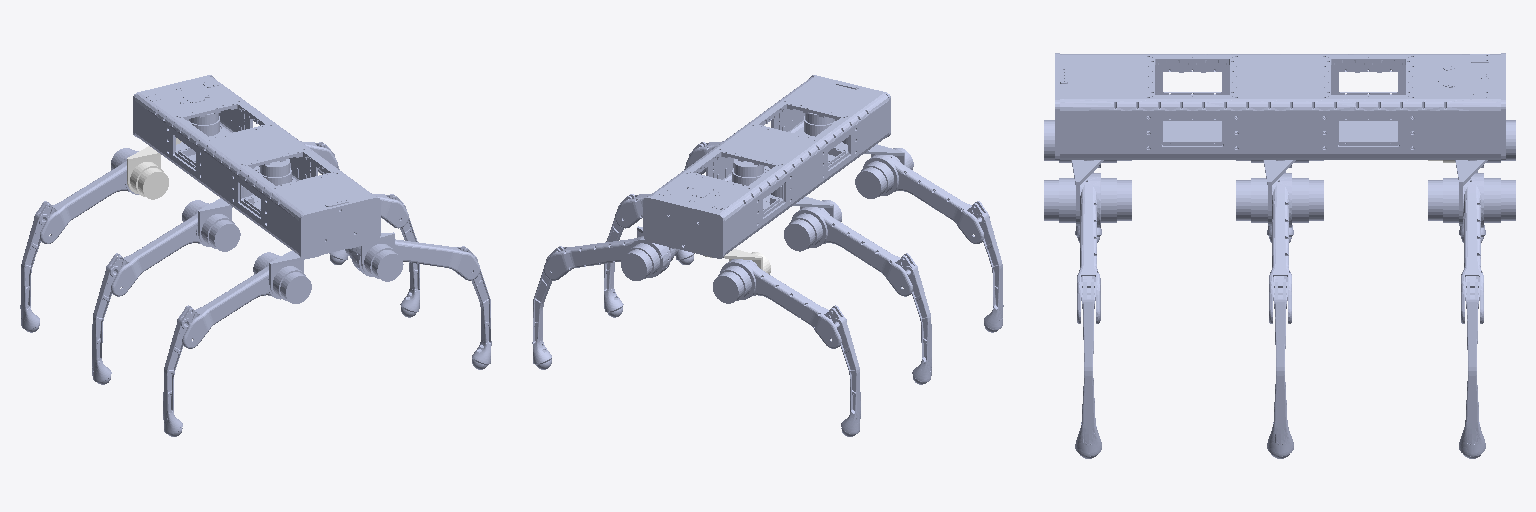
robot.urdf — robot_hexapod:
<?xml version="1.0" encoding="utf-8"?>
<!-- This URDF was automatically created by SolidWorks to URDF Exporter! Originally created by [author] ([email redacted]) 
     Commit Version: 1.6.0-4-g7f85cfe  Build Version: 1.6.7995.38578
     For more information, please see http://wiki.ros.org/sw_urdf_exporter -->
<robot
  name="robot_hexapod">
  <link
    name="base_link">
    <inertial>
      <origin
        xyz="1.46108995875164E-06 0.051188804105788 -0.000137539896622166"
        rpy="0 0 0" />
      <mass
        value="3.67349717771553" />
      <inertia
        ixx="0.173966458817694"
        ixy="-3.03137671653759E-08"
        ixz="2.33262035089775E-06"
        iyy="0.185469512654219"
        iyz="3.49228963968594E-06"
        izz="0.0136702984773865" />
    </inertial>
    <visual>
      <origin
        xyz="0 0 0"
        rpy="0 0 0" />
      <geometry>
        <mesh
          filename="package://robot_hexapod/meshes/base_link.STL" />
      </geometry>
      <material
        name="">
        <color
          rgba="0.792156862745098 0.819607843137255 0.933333333333333 1" />
      </material>
    </visual>
    <collision>
      <origin
        xyz="0 0 0"
        rpy="0 0 0" />
      <geometry>
        <mesh
          filename="package://robot_hexapod/meshes/base_link.STL" />
      </geometry>
    </collision>
  </link>
  <link
    name="lb_link1">
    <inertial>
      <origin
        xyz="0.038794 -0.021772 -0.0023024"
        rpy="0 0 0" />
      <mass
        value="0.62516" />
      <inertia
        ixx="0.00043581"
        ixy="2.4123E-05"
        ixz="4.5244E-05"
        iyy="0.00057762"
        iyz="-1.333E-05"
        izz="0.00053065" />
    </inertial>
    <visual>
      <origin
        xyz="0 0 0"
        rpy="0 0 0" />
      <geometry>
        <mesh
          filename="package://robot_hexapod/meshes/lb_link1.STL" />
      </geometry>
      <material
        name="">
        <color
          rgba="0.79216 0.81961 0.93333 1" />
      </material>
    </visual>
    <collision>
      <origin
        xyz="0 0 0"
        rpy="0 0 0" />
      <geometry>
        <mesh
          filename="package://robot_hexapod/meshes/lb_link1.STL" />
      </geometry>
    </collision>
  </link>
  <joint
    name="body_lb"
    type="revolute">
    <origin
      xyz="0.05 0.34 -0.021"
      rpy="0 0 0" />
    <parent
      link="base_link" />
    <child
      link="lb_link1" />
    <axis
      xyz="0 0 -1" />
    <limit
      lower="-1.57"
      upper="1.57"
      effort="0"
      velocity="0" />
  </joint>
  <link
    name="lb_link2">
    <inertial>
      <origin
        xyz="0.043848 0.01982 -0.0082235"
        rpy="0 0 0" />
      <mass
        value="0.46795" />
      <inertia
        ixx="0.00041203"
        ixy="1.5139E-05"
        ixz="0.00048909"
        iyy="0.0026296"
        iyz="-2.926E-06"
        izz="0.0023888" />
    </inertial>
    <visual>
      <origin
        xyz="0 0 0"
        rpy="0 0 0" />
      <geometry>
        <mesh
          filename="package://robot_hexapod/meshes/lb_link2.STL" />
      </geometry>
      <material
        name="">
        <color
          rgba="0.79216 0.81961 0.93333 1" />
      </material>
    </visual>
    <collision>
      <origin
        xyz="0 0 0"
        rpy="0 0 0" />
      <geometry>
        <mesh
          filename="package://robot_hexapod/meshes/lb_link2.STL" />
      </geometry>
    </collision>
  </link>
  <joint
    name="thigh_lb"
    type="revolute">
    <origin
      xyz="0.075728 0.0068868 -0.05"
      rpy="0 0 0" />
    <parent
      link="lb_link1" />
    <child
      link="lb_link2" />
    <axis
      xyz="0 -1 0" />
    <limit
      lower="-1.57"
      upper="1.57"
      effort="0"
      velocity="0" />
  </joint>
  <link
    name="lb_link_3">
    <inertial>
      <origin
        xyz="0.0024767 -1.1784E-06 -0.17513"
        rpy="0 0 0" />
      <mass
        value="0.13621" />
      <inertia
        ixx="0.00052953"
        ixy="-1.4767E-09"
        ixz="3.901E-05"
        iyy="0.00053577"
        iyz="1.6182E-08"
        izz="2.4831E-05" />
    </inertial>
    <visual>
      <origin
        xyz="0 0 0"
        rpy="0 0 0" />
      <geometry>
        <mesh
          filename="package://robot_hexapod/meshes/lb_link_3.STL" />
      </geometry>
      <material
        name="">
        <color
          rgba="0.79216 0.81961 0.93333 1" />
      </material>
    </visual>
    <collision>
      <origin
        xyz="0 0 0"
        rpy="0 0 0" />
      <geometry>
        <mesh
          filename="package://robot_hexapod/meshes/lb_link_3.STL" />
      </geometry>
    </collision>
  </link>
  <joint
    name="shank_lb"
    type="revolute">
    <origin
      xyz="0.26531 -0.0068868 -0.073333"
      rpy="0 0 0" />
    <parent
      link="lb_link2" />
    <child
      link="lb_link_3" />
    <axis
      xyz="0 -1 0" />
    <limit
      lower="-1.57"
      upper="1.57"
      effort="0"
      velocity="0" />
  </joint>
  <link
    name="lm_link1">
    <inertial>
      <origin
        xyz="0.038794 -0.021772 -0.0023024"
        rpy="0 0 0" />
      <mass
        value="0.62516" />
      <inertia
        ixx="0.00043581"
        ixy="2.4123E-05"
        ixz="4.5244E-05"
        iyy="0.00057762"
        iyz="-1.333E-05"
        izz="0.00053065" />
    </inertial>
    <visual>
      <origin
        xyz="0 0 0"
        rpy="0 0 0" />
      <geometry>
        <mesh
          filename="package://robot_hexapod/meshes/lm_link1.STL" />
      </geometry>
      <material
        name="">
        <color
          rgba="0.79216 0.81961 0.93333 1" />
      </material>
    </visual>
    <collision>
      <origin
        xyz="0 0 0"
        rpy="0 0 0" />
      <geometry>
        <mesh
          filename="package://robot_hexapod/meshes/lm_link1.STL" />
      </geometry>
    </collision>
  </link>
  <joint
    name="body_lm"
    type="revolute">
    <origin
      xyz="0.05 0 -0.021"
      rpy="0 0 0" />
    <parent
      link="base_link" />
    <child
      link="lm_link1" />
    <axis
      xyz="0 0 -1" />
    <limit
      lower="-1.57"
      upper="1.57"
      effort="0"
      velocity="0" />
  </joint>
  <link
    name="lm_link2">
    <inertial>
      <origin
        xyz="0.043575 0.026707 -0.0082235"
        rpy="0 0 0" />
      <mass
        value="0.46795" />
      <inertia
        ixx="0.00041203"
        ixy="1.5139E-05"
        ixz="0.00048909"
        iyy="0.0026296"
        iyz="-2.926E-06"
        izz="0.0023888" />
    </inertial>
    <visual>
      <origin
        xyz="0 0 0"
        rpy="0 0 0" />
      <geometry>
        <mesh
          filename="package://robot_hexapod/meshes/lm_link2.STL" />
      </geometry>
      <material
        name="">
        <color
          rgba="0.79216 0.81961 0.93333 1" />
      </material>
    </visual>
    <collision>
      <origin
        xyz="0 0 0"
        rpy="0 0 0" />
      <geometry>
        <mesh
          filename="package://robot_hexapod/meshes/lm_link2.STL" />
      </geometry>
    </collision>
  </link>
  <joint
    name="thigh_lm"
    type="revolute">
    <origin
      xyz="0.076 0 -0.05"
      rpy="0 0 0" />
    <parent
      link="lm_link1" />
    <child
      link="lm_link2" />
    <axis
      xyz="0 -1 0" />
    <limit
      lower="-1.57"
      upper="1.57"
      effort="0"
      velocity="0" />
  </joint>
  <link
    name="lm_link3">
    <inertial>
      <origin
        xyz="0.0024767 -1.1784E-06 -0.17513"
        rpy="0 0 0" />
      <mass
        value="0.13621" />
      <inertia
        ixx="0.00052953"
        ixy="-1.4767E-09"
        ixz="3.901E-05"
        iyy="0.00053577"
        iyz="1.6182E-08"
        izz="2.4831E-05" />
    </inertial>
    <visual>
      <origin
        xyz="0 0 0"
        rpy="0 0 0" />
      <geometry>
        <mesh
          filename="package://robot_hexapod/meshes/lm_link3.STL" />
      </geometry>
      <material
        name="">
        <color
          rgba="0.79216 0.81961 0.93333 1" />
      </material>
    </visual>
    <collision>
      <origin
        xyz="0 0 0"
        rpy="0 0 0" />
      <geometry>
        <mesh
          filename="package://robot_hexapod/meshes/lm_link3.STL" />
      </geometry>
    </collision>
  </link>
  <joint
    name="shank_lm"
    type="revolute">
    <origin
      xyz="0.26504 0 -0.073333"
      rpy="0 0 0" />
    <parent
      link="lm_link2" />
    <child
      link="lm_link3" />
    <axis
      xyz="0 -1 0" />
    <limit
      lower="-1.57"
      upper="1.57"
      effort="0"
      velocity="0" />
  </joint>
  <link
    name="lf_link1">
    <inertial>
      <origin
        xyz="0.038794 -0.021772 -0.0023024"
        rpy="0 0 0" />
      <mass
        value="0.62516" />
      <inertia
        ixx="0.00043581"
        ixy="2.4123E-05"
        ixz="4.5244E-05"
        iyy="0.00057762"
        iyz="-1.333E-05"
        izz="0.00053065" />
    </inertial>
    <visual>
      <origin
        xyz="0 0 0"
        rpy="0 0 0" />
      <geometry>
        <mesh
          filename="package://robot_hexapod/meshes/lf_link1.STL" />
      </geometry>
      <material
        name="">
        <color
          rgba="0.79216 0.81961 0.93333 1" />
      </material>
    </visual>
    <collision>
      <origin
        xyz="0 0 0"
        rpy="0 0 0" />
      <geometry>
        <mesh
          filename="package://robot_hexapod/meshes/lf_link1.STL" />
      </geometry>
    </collision>
  </link>
  <joint
    name="body_lf"
    type="revolute">
    <origin
      xyz="0.05 -0.34 -0.021"
      rpy="0 0 0" />
    <parent
      link="base_link" />
    <child
      link="lf_link1" />
    <axis
      xyz="0 0 -1" />
    <limit
      lower="-1.57"
      upper="1.57"
      effort="0"
      velocity="0" />
  </joint>
  <link
    name="lf_link2">
    <inertial>
      <origin
        xyz="0.043575 0.026707 -0.0082235"
        rpy="0 0 0" />
      <mass
        value="0.46795" />
      <inertia
        ixx="0.00041203"
        ixy="1.5139E-05"
        ixz="0.00048909"
        iyy="0.0026296"
        iyz="-2.926E-06"
        izz="0.0023888" />
    </inertial>
    <visual>
      <origin
        xyz="0 0 0"
        rpy="0 0 0" />
      <geometry>
        <mesh
          filename="package://robot_hexapod/meshes/lf_link2.STL" />
      </geometry>
      <material
        name="">
        <color
          rgba="0.79216 0.81961 0.93333 1" />
      </material>
    </visual>
    <collision>
      <origin
        xyz="0 0 0"
        rpy="0 0 0" />
      <geometry>
        <mesh
          filename="package://robot_hexapod/meshes/lf_link2.STL" />
      </geometry>
    </collision>
  </link>
  <joint
    name="thigh_lf"
    type="revolute">
    <origin
      xyz="0.076 0 -0.05"
      rpy="0 0 0" />
    <parent
      link="lf_link1" />
    <child
      link="lf_link2" />
    <axis
      xyz="0 -1 0" />
    <limit
      lower="-1.57"
      upper="1.57"
      effort="0"
      velocity="0" />
  </joint>
  <link
    name="lf_link3">
    <inertial>
      <origin
        xyz="0.0024767 -1.1784E-06 -0.17513"
        rpy="0 0 0" />
      <mass
        value="0.13621" />
      <inertia
        ixx="0.00052953"
        ixy="-1.4767E-09"
        ixz="3.901E-05"
        iyy="0.00053577"
        iyz="1.6182E-08"
        izz="2.4831E-05" />
    </inertial>
    <visual>
      <origin
        xyz="0 0 0"
        rpy="0 0 0" />
      <geometry>
        <mesh
          filename="package://robot_hexapod/meshes/lf_link3.STL" />
      </geometry>
      <material
        name="">
        <color
          rgba="0.79216 0.81961 0.93333 1" />
      </material>
    </visual>
    <collision>
      <origin
        xyz="0 0 0"
        rpy="0 0 0" />
      <geometry>
        <mesh
          filename="package://robot_hexapod/meshes/lf_link3.STL" />
      </geometry>
    </collision>
  </link>
  <joint
    name="shank_lf"
    type="revolute">
    <origin
      xyz="0.26504 0 -0.073333"
      rpy="0 0 0" />
    <parent
      link="lf_link2" />
    <child
      link="lf_link3" />
    <axis
      xyz="0 -1 0" />
    <limit
      lower="-1.57"
      upper="1.57"
      effort="0"
      velocity="0" />
  </joint>
  <link
    name="rf_link1">
    <inertial>
      <origin
        xyz="-0.038794 -0.021772 -0.0023024"
        rpy="0 0 0" />
      <mass
        value="0.62516" />
      <inertia
        ixx="0.00043581"
        ixy="-2.4123E-05"
        ixz="-4.5244E-05"
        iyy="0.00057762"
        iyz="-1.333E-05"
        izz="0.00053065" />
    </inertial>
    <visual>
      <origin
        xyz="0 0 0"
        rpy="0 0 0" />
      <geometry>
        <mesh
          filename="package://robot_hexapod/meshes/rf_link1.STL" />
      </geometry>
      <material
        name="">
        <color
          rgba="0.79216 0.81961 0.93333 1" />
      </material>
    </visual>
    <collision>
      <origin
        xyz="0 0 0"
        rpy="0 0 0" />
      <geometry>
        <mesh
          filename="package://robot_hexapod/meshes/rf_link1.STL" />
      </geometry>
    </collision>
  </link>
  <joint
    name="body_rf"
    type="revolute">
    <origin
      xyz="-0.05 -0.34 -0.021"
      rpy="0 0 0" />
    <parent
      link="base_link" />
    <child
      link="rf_link1" />
    <axis
      xyz="0 0 1" />
    <limit
      lower="-1.57"
      upper="1.57"
      effort="0"
      velocity="0" />
  </joint>
  <link
    name="rf_link2">
    <inertial>
      <origin
        xyz="-0.043271 0.026106 -0.0046951"
        rpy="0 0 0" />
      <mass
        value="0.47536" />
      <inertia
        ixx="0.00035198"
        ixy="-1.6418E-05"
        ixz="-0.00032124"
        iyy="0.0026453"
        iyz="-1.9676E-06"
        izz="0.0024651" />
    </inertial>
    <visual>
      <origin
        xyz="0 0 0"
        rpy="0 0 0" />
      <geometry>
        <mesh
          filename="package://robot_hexapod/meshes/rf_link2.STL" />
      </geometry>
      <material
        name="">
        <color
          rgba="0.79216 0.81961 0.93333 1" />
      </material>
    </visual>
    <collision>
      <origin
        xyz="0 0 0"
        rpy="0 0 0" />
      <geometry>
        <mesh
          filename="package://robot_hexapod/meshes/rf_link2.STL" />
      </geometry>
    </collision>
  </link>
  <joint
    name="thigh_rf"
    type="revolute">
    <origin
      xyz="-0.076 0 -0.05"
      rpy="0 0 0" />
    <parent
      link="rf_link1" />
    <child
      link="rf_link2" />
    <axis
      xyz="0 1 0" />
    <limit
      lower="-1.57"
      upper="1.57"
      effort="0"
      velocity="0" />
  </joint>
  <link
    name="rf_link3">
    <inertial>
      <origin
        xyz="-0.044776 1.1288E-06 -0.16933"
        rpy="0 0 0" />
      <mass
        value="0.13622" />
      <inertia
        ixx="0.00048172"
        ixy="-5.191E-09"
        ixz="-0.00015293"
        iyy="0.00053582"
        iyz="-1.4937E-08"
        izz="7.2694E-05" />
    </inertial>
    <visual>
      <origin
        xyz="0 0 0"
        rpy="0 0 0" />
      <geometry>
        <mesh
          filename="package://robot_hexapod/meshes/rf_link3.STL" />
      </geometry>
      <material
        name="">
        <color
          rgba="0.79216 0.81961 0.93333 1" />
      </material>
    </visual>
    <collision>
      <origin
        xyz="0 0 0"
        rpy="0 0 0" />
      <geometry>
        <mesh
          filename="package://robot_hexapod/meshes/rf_link3.STL" />
      </geometry>
    </collision>
  </link>
  <joint
    name="shank_rf"
    type="revolute">
    <origin
      xyz="-0.26977 0 -0.053373"
      rpy="0 0 0" />
    <parent
      link="rf_link2" />
    <child
      link="rf_link3" />
    <axis
      xyz="0 1 0" />
    <limit
      lower="-1.57"
      upper="1.57"
      effort="0"
      velocity="0" />
  </joint>
  <link
    name="rm_link1">
    <inertial>
      <origin
        xyz="-0.038794 -0.021772 -0.0023024"
        rpy="0 0 0" />
      <mass
        value="0.62516" />
      <inertia
        ixx="0.00043581"
        ixy="-2.4123E-05"
        ixz="-4.5244E-05"
        iyy="0.00057762"
        iyz="-1.333E-05"
        izz="0.00053065" />
    </inertial>
    <visual>
      <origin
        xyz="0 0 0"
        rpy="0 0 0" />
      <geometry>
        <mesh
          filename="package://robot_hexapod/meshes/rm_link1.STL" />
      </geometry>
      <material
        name="">
        <color
          rgba="0.79216 0.81961 0.93333 1" />
      </material>
    </visual>
    <collision>
      <origin
        xyz="0 0 0"
        rpy="0 0 0" />
      <geometry>
        <mesh
          filename="package://robot_hexapod/meshes/rm_link1.STL" />
      </geometry>
    </collision>
  </link>
  <joint
    name="body_rm"
    type="revolute">
    <origin
      xyz="-0.05 0 -0.021"
      rpy="0 0 0" />
    <parent
      link="base_link" />
    <child
      link="rm_link1" />
    <axis
      xyz="0 0 1" />
    <limit
      lower="-1.57"
      upper="1.57"
      effort="0"
      velocity="0" />
  </joint>
  <link
    name="rm_link2">
    <inertial>
      <origin
        xyz="-0.043271 0.026106 -0.0046951"
        rpy="0 0 0" />
      <mass
        value="0.47536" />
      <inertia
        ixx="0.00035198"
        ixy="-1.6418E-05"
        ixz="-0.00032124"
        iyy="0.0026453"
        iyz="-1.9676E-06"
        izz="0.0024651" />
    </inertial>
    <visual>
      <origin
        xyz="0 0 0"
        rpy="0 0 0" />
      <geometry>
        <mesh
          filename="package://robot_hexapod/meshes/rm_link2.STL" />
      </geometry>
      <material
        name="">
        <color
          rgba="0.79216 0.81961 0.93333 1" />
      </material>
    </visual>
    <collision>
      <origin
        xyz="0 0 0"
        rpy="0 0 0" />
      <geometry>
        <mesh
          filename="package://robot_hexapod/meshes/rm_link2.STL" />
      </geometry>
    </collision>
  </link>
  <joint
    name="thigh_rm"
    type="revolute">
    <origin
      xyz="-0.076 0 -0.05"
      rpy="0 0 0" />
    <parent
      link="rm_link1" />
    <child
      link="rm_link2" />
    <axis
      xyz="0 1 0" />
    <limit
      lower="-1.57"
      upper="1.57"
      effort="0"
      velocity="0" />
  </joint>
  <link
    name="rm_link3">
    <inertial>
      <origin
        xyz="-0.044776 1.1288E-06 -0.16933"
        rpy="0 0 0" />
      <mass
        value="0.13622" />
      <inertia
        ixx="0.00048172"
        ixy="-5.1909E-09"
        ixz="-0.00015293"
        iyy="0.00053582"
        iyz="-1.4937E-08"
        izz="7.2694E-05" />
    </inertial>
    <visual>
      <origin
        xyz="0 0 0"
        rpy="0 0 0" />
      <geometry>
        <mesh
          filename="package://robot_hexapod/meshes/rm_link3.STL" />
      </geometry>
      <material
        name="">
        <color
          rgba="0.79216 0.81961 0.93333 1" />
      </material>
    </visual>
    <collision>
      <origin
        xyz="0 0 0"
        rpy="0 0 0" />
      <geometry>
        <mesh
          filename="package://robot_hexapod/meshes/rm_link3.STL" />
      </geometry>
    </collision>
  </link>
  <joint
    name="shank_rm"
    type="revolute">
    <origin
      xyz="-0.26977 0 -0.053373"
      rpy="0 0 0" />
    <parent
      link="rm_link2" />
    <child
      link="rm_link3" />
    <axis
      xyz="0 1 0" />
    <limit
      lower="-1.57"
      upper="1.57"
      effort="0"
      velocity="0" />
  </joint>
  <link
    name="rb_link1">
    <inertial>
      <origin
        xyz="0 0 0"
        rpy="0 0 0" />
      <mass
        value="0" />
      <inertia
        ixx="0"
        ixy="0"
        ixz="0"
        iyy="0"
        iyz="0"
        izz="0" />
    </inertial>
    <visual>
      <origin
        xyz="0 0 0"
        rpy="0 0 0" />
      <geometry>
        <mesh
          filename="package://robot_hexapod/meshes/rb_link1.STL" />
      </geometry>
      <material
        name="">
        <color
          rgba="1 1 1 1" />
      </material>
    </visual>
    <collision>
      <origin
        xyz="0 0 0"
        rpy="0 0 0" />
      <geometry>
        <mesh
          filename="package://robot_hexapod/meshes/rb_link1.STL" />
      </geometry>
    </collision>
  </link>
  <joint
    name="body_rb"
    type="revolute">
    <origin
      xyz="-0.05 0.34 -0.021"
      rpy="0 0 0" />
    <parent
      link="base_link" />
    <child
      link="rb_link1" />
    <axis
      xyz="0 0 1" />
    <limit
      lower="-1.57"
      upper="1.57"
      effort="0"
      velocity="0" />
  </joint>
  <link
    name="rb_link2">
    <inertial>
      <origin
        xyz="-0.043271 0.026106 -0.0046951"
        rpy="0 0 0" />
      <mass
        value="0.47536" />
      <inertia
        ixx="0.00035198"
        ixy="-1.6418E-05"
        ixz="-0.00032124"
        iyy="0.0026453"
        iyz="-1.9676E-06"
        izz="0.0024651" />
    </inertial>
    <visual>
      <origin
        xyz="0 0 0"
        rpy="0 0 0" />
      <geometry>
        <mesh
          filename="package://robot_hexapod/meshes/rb_link2.STL" />
      </geometry>
      <material
        name="">
        <color
          rgba="0.79216 0.81961 0.93333 1" />
      </material>
    </visual>
    <collision>
      <origin
        xyz="0 0 0"
        rpy="0 0 0" />
      <geometry>
        <mesh
          filename="package://robot_hexapod/meshes/rb_link2.STL" />
      </geometry>
    </collision>
  </link>
  <joint
    name="thigh_rb"
    type="revolute">
    <origin
      xyz="-0.076 0 -0.05"
      rpy="0 0 0" />
    <parent
      link="rb_link1" />
    <child
      link="rb_link2" />
    <axis
      xyz="0 1 0" />
    <limit
      lower="-1.57"
      upper="1.57"
      effort="0"
      velocity="0" />
  </joint>
  <link
    name="rb_link3">
    <inertial>
      <origin
        xyz="-0.044776 1.1288E-06 -0.16933"
        rpy="0 0 0" />
      <mass
        value="0.13622" />
      <inertia
        ixx="0.00048172"
        ixy="-5.191E-09"
        ixz="-0.00015293"
        iyy="0.00053582"
        iyz="-1.4937E-08"
        izz="7.2694E-05" />
    </inertial>
    <visual>
      <origin
        xyz="0 0 0"
        rpy="0 0 0" />
      <geometry>
        <mesh
          filename="package://robot_hexapod/meshes/rb_link3.STL" />
      </geometry>
      <material
        name="">
        <color
          rgba="0.79216 0.81961 0.93333 1" />
      </material>
    </visual>
    <collision>
      <origin
        xyz="0 0 0"
        rpy="0 0 0" />
      <geometry>
        <mesh
          filename="package://robot_hexapod/meshes/rb_link3.STL" />
      </geometry>
    </collision>
  </link>
  <joint
    name="shank_rb"
    type="revolute">
    <origin
      xyz="-0.26977 0 -0.053373"
      rpy="0 0 0" />
    <parent
      link="rb_link2" />
    <child
      link="rb_link3" />
    <axis
      xyz="0 1 0" />
    <limit
      lower="-1.57"
      upper="1.57"
      effort="0"
      velocity="0" />
  </joint>
</robot>

--- Render facts (derived) ---
The picture shows the robot from 3 angles, left to right: view 1: azimuth 30°, elevation 25°; view 2: azimuth 150°, elevation 25°; view 3: azimuth 270°, elevation 25°; orthographic projection.
Model robot_hexapod with 19 links and 18 joints (18 revolute), rooted at base_link, posed all joints at 0.
Visible links, largest first — view 1: base_link, rb_link2, rm_link2, rf_link2, lf_link2, rm_link1, rb_link1, rf_link1, rf_link3, rm_link3, rb_link3, lf_link1 (+4 smaller); view 2: base_link, rm_link2, rb_link2, rf_link2, lb_link2, rb_link3, rm_link3, rf_link3, lb_link_3, lm_link3, lm_link2, lm_link1 (+1 smaller); view 3: base_link, lf_link2, lb_link2, lm_link2, lf_link3, lb_link_3, lm_link3, lf_link1, lm_link1, lb_link1.
Boxes of the visible links, x1,y1,x2,y2 form: base_link: (133, 75, 380, 258); rb_link2: (40, 148, 138, 243); rm_link2: (111, 200, 210, 296); rf_link2: (182, 252, 280, 348); lf_link2: (345, 239, 479, 280); rm_link1: (198, 169, 253, 251); rb_link1: (127, 138, 181, 199); rf_link1: (269, 251, 320, 303); rf_link3: (163, 305, 194, 436); rm_link3: (92, 253, 122, 384); rb_link3: (20, 201, 51, 332); lf_link1: (348, 232, 403, 281); base_link: (643, 75, 890, 258); rm_link2: (784, 207, 912, 296); rb_link2: (713, 259, 841, 348); rf_link2: (855, 155, 983, 243); lb_link2: (544, 236, 670, 280); rb_link3: (829, 305, 860, 436); rm_link3: (901, 253, 931, 384); rf_link3: (972, 201, 1003, 332); lb_link_3: (532, 246, 563, 369); lm_link3: (604, 194, 634, 317); lm_link2: (615, 193, 652, 228); lm_link1: (732, 159, 765, 185); base_link: (1055, 53, 1505, 159); lf_link2: (1077, 173, 1131, 323); lb_link2: (1461, 173, 1515, 323); lm_link2: (1269, 173, 1323, 323); lf_link3: (1075, 279, 1101, 458); lb_link_3: (1459, 279, 1485, 458); lm_link3: (1267, 279, 1293, 458); lf_link1: (1044, 160, 1103, 225); lm_link1: (1236, 160, 1295, 225); lb_link1: (1428, 160, 1487, 225).
Bounding box of the posed robot: 0.8916 × 0.8347 × 0.5525 m (x, y, z).
19 mesh visuals loaded from 19 distinct referenced files (19 binary STL).